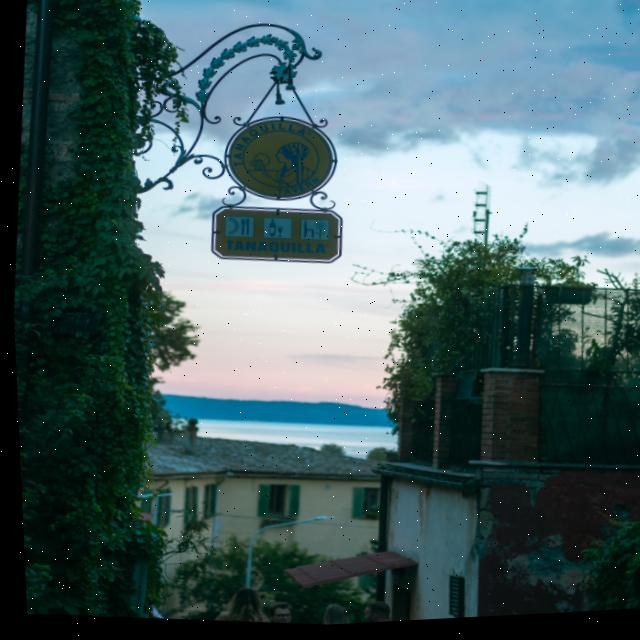building: (355, 248, 640, 622), (139, 413, 389, 608)
